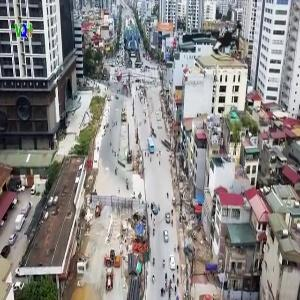drone: (193, 3, 259, 69)
